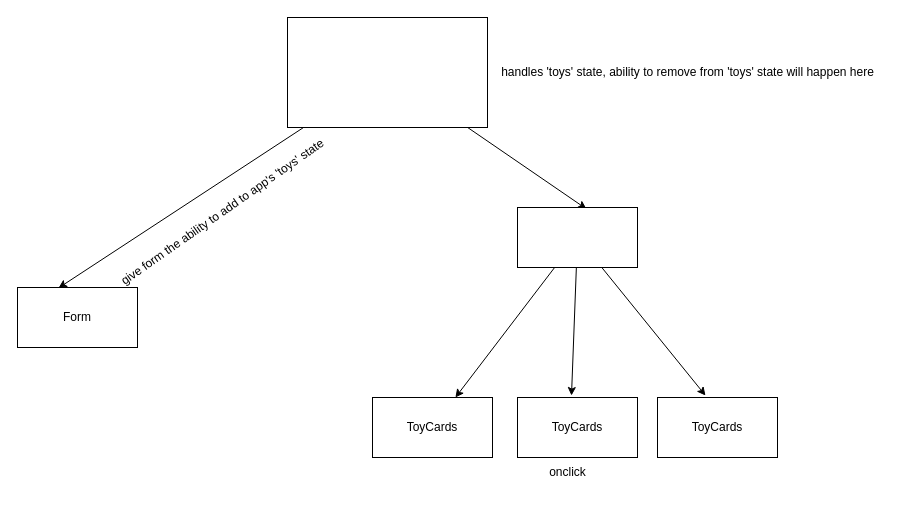
Some shapes in this 905 by 505 pixel diagram are drawn without their labels. The centre of each missing label's shape, as x and y in pixels:
App state: toys: the point at 387,72
ToyContainer: the point at 577,237
